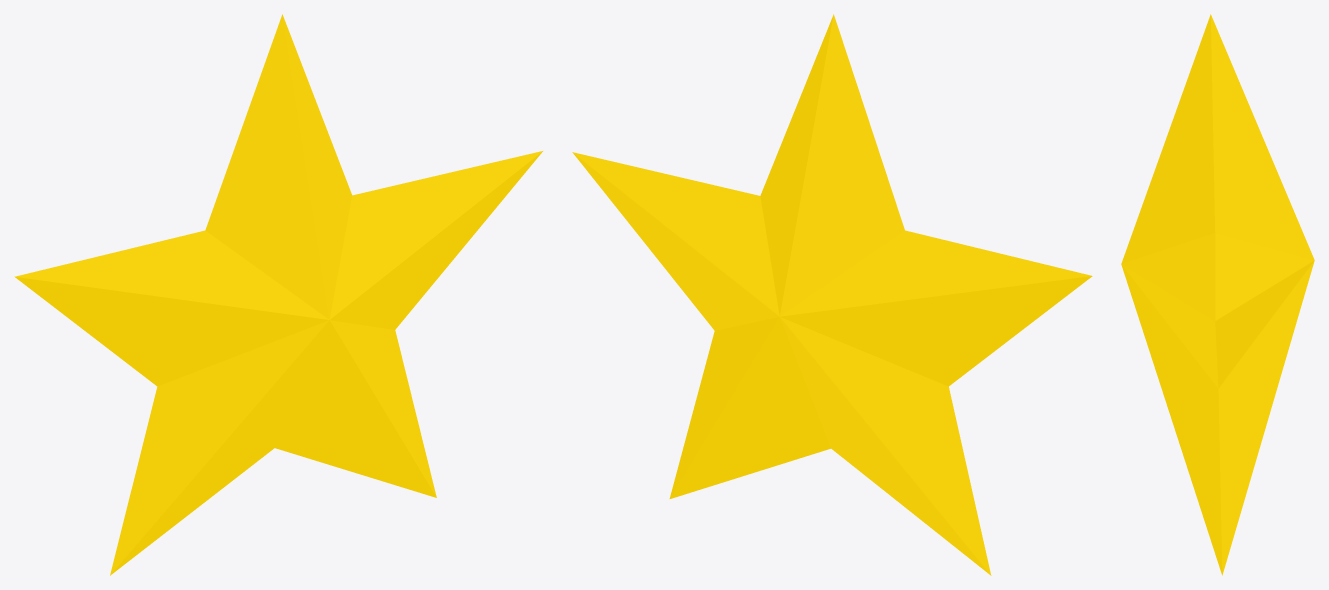
Rendered from Estrella.glb.
3 renders of one model, left to right at view 1: azimuth 30°, elevation 25°; view 2: azimuth 150°, elevation 25°; view 3: azimuth 270°, elevation 25°, orthographic. The views are drawn at different scales.
Parts seen in each view (by area): view 1: estrella; view 2: estrella; view 3: estrella.
Boxes of the visible parts, bbox=[...] form: estrella: bbox=[14, 14, 542, 575]; estrella: bbox=[572, 14, 1092, 575]; estrella: bbox=[1121, 14, 1314, 575].
Bounding box in the file's own units: 15.98 × 15.23 × 5.46.
